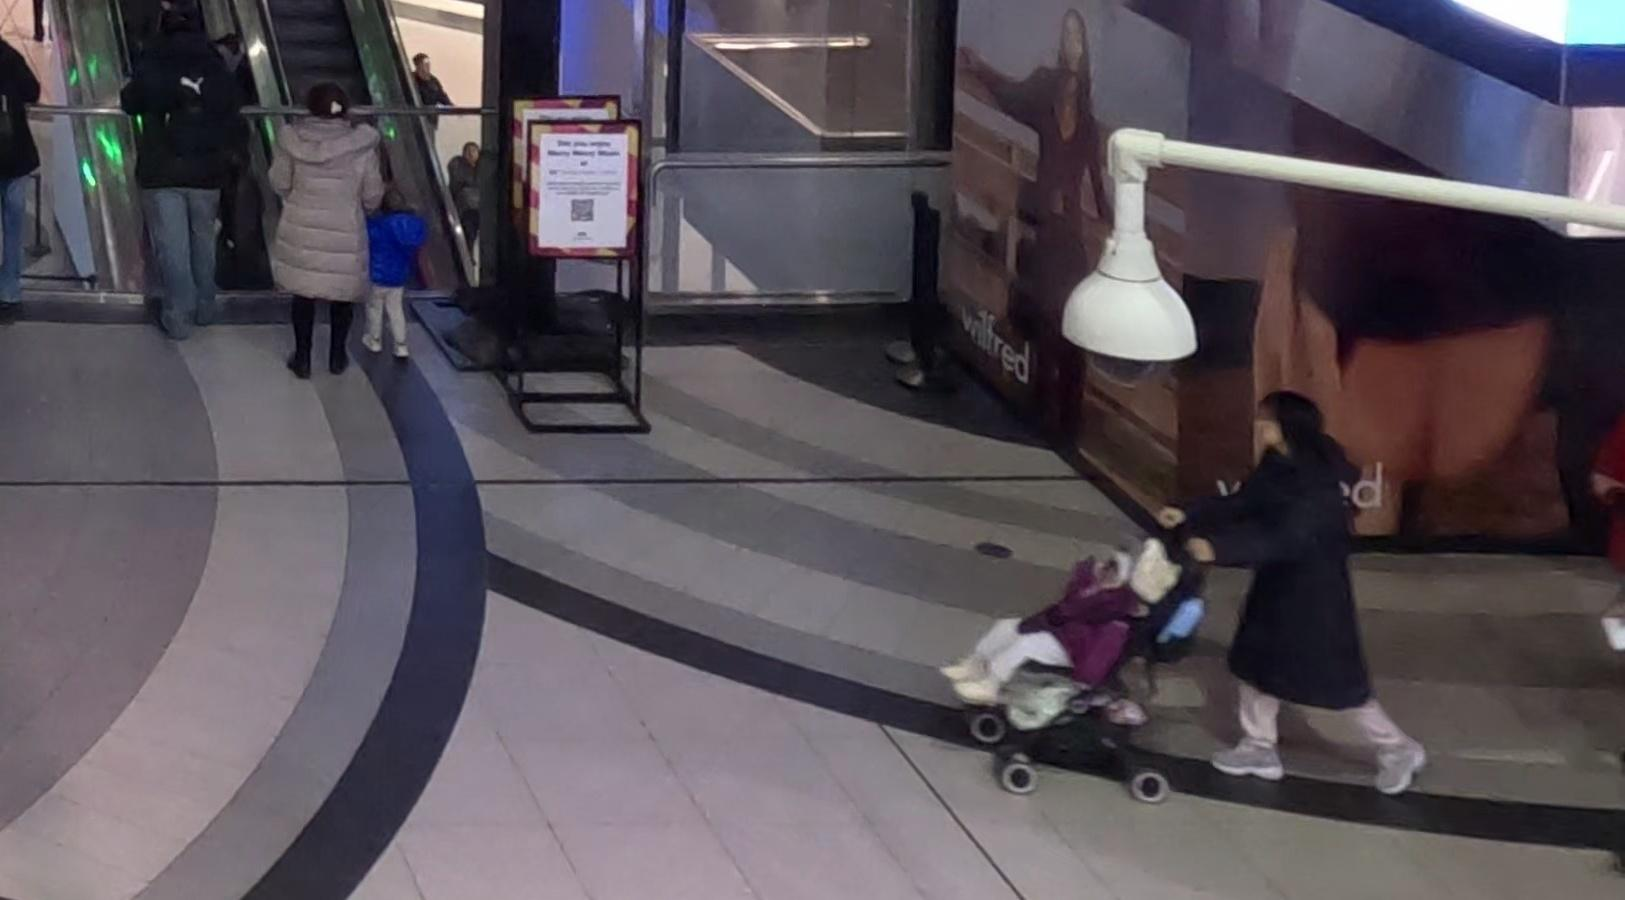person: (1190, 377, 1399, 787), (115, 25, 245, 349), (263, 79, 374, 382)
